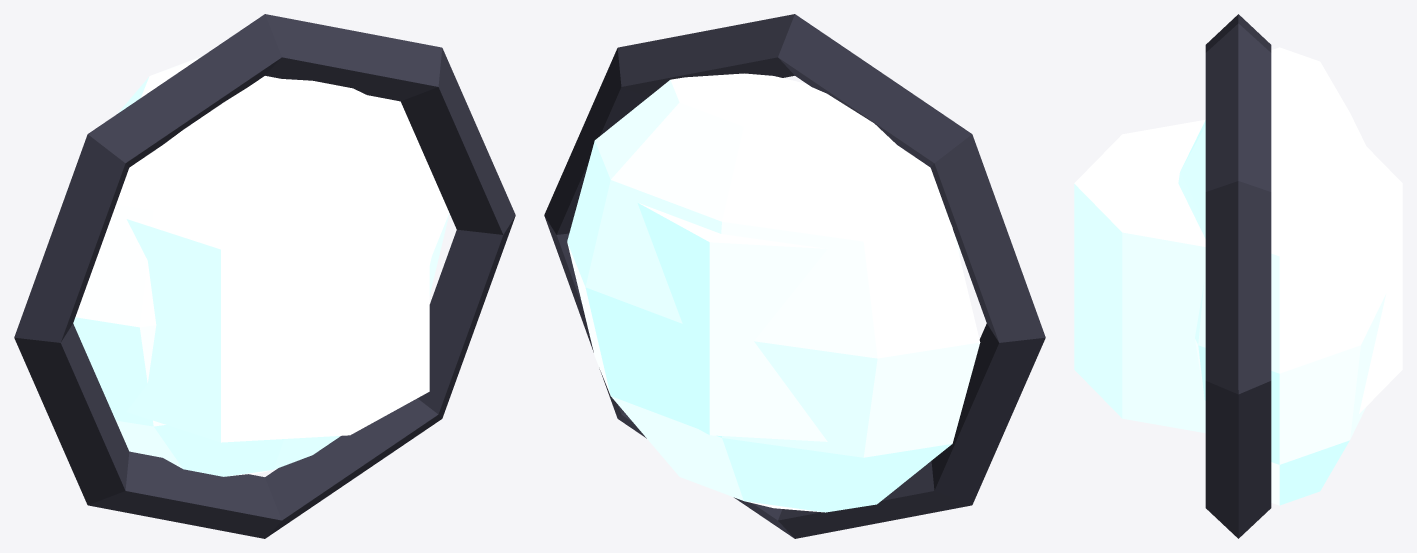
The model's file is enemy_shielded.glb.
3 renders of one model, left to right at view 1: azimuth 30°, elevation 25°; view 2: azimuth 150°, elevation 25°; view 3: azimuth 270°, elevation 25°, orthographic. The views are drawn at different scales.
Visible parts, largest first — view 1: enemy_shielded; view 2: enemy_shielded; view 3: enemy_shielded.
Part boxes in pixels (<box>): enemy_shielded: <box>14,14,515,538</box>; enemy_shielded: <box>544,14,1045,538</box>; enemy_shielded: <box>1074,14,1402,538</box>.
Size of the model in its own units: 0.68 by 0.68 by 0.4.
